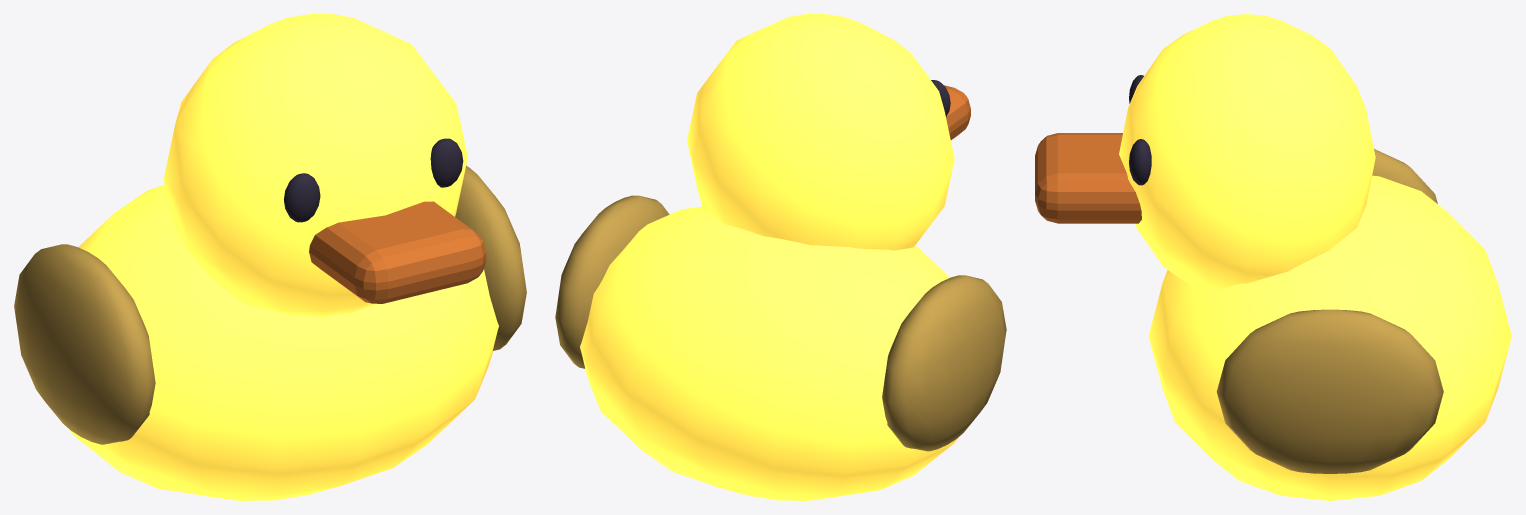
The model's file is duck.glb.
3 renders of one model, left to right at view 1: azimuth 30°, elevation 25°; view 2: azimuth 150°, elevation 25°; view 3: azimuth 270°, elevation 25°, orthographic. The views are drawn at different scales.
Visible parts, largest first — view 1: Body, Head, Wing, Bill, Wing.001, Eye, Eye.001; view 2: Body, Head, Wing, Wing.001, Bill; view 3: Head, Body, Wing.001, Bill, Wing, Eye.001.
Boxes of the visible parts, bbox=[...] form: Body: bbox=[68, 184, 498, 500]; Head: bbox=[163, 14, 467, 316]; Wing: bbox=[14, 244, 155, 444]; Bill: bbox=[309, 201, 486, 303]; Wing.001: bbox=[455, 165, 526, 350]; Eye: bbox=[284, 173, 320, 222]; Eye.001: bbox=[430, 138, 463, 187]; Body: bbox=[580, 206, 958, 500]; Head: bbox=[687, 14, 954, 250]; Wing: bbox=[882, 275, 1006, 451]; Wing.001: bbox=[555, 195, 669, 368]; Bill: bbox=[944, 85, 970, 139]; Head: bbox=[1119, 14, 1375, 290]; Body: bbox=[1148, 175, 1511, 500]; Wing.001: bbox=[1216, 309, 1443, 473]; Bill: bbox=[1035, 133, 1141, 223]; Wing: bbox=[1372, 149, 1437, 203]; Eye.001: bbox=[1129, 139, 1151, 185].
Bounding box in the file's own units: 0.31 × 0.325 × 0.315.
